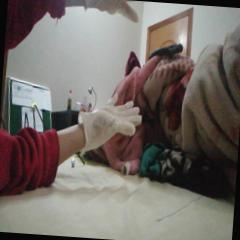gloved: (77, 92, 143, 144), (83, 0, 141, 25)
